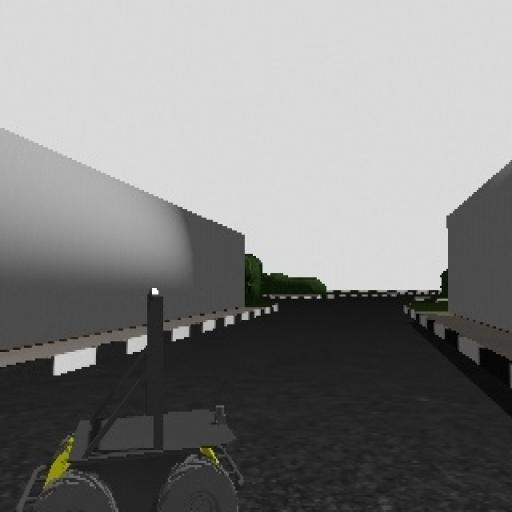huskya200: (8, 266, 264, 512)
